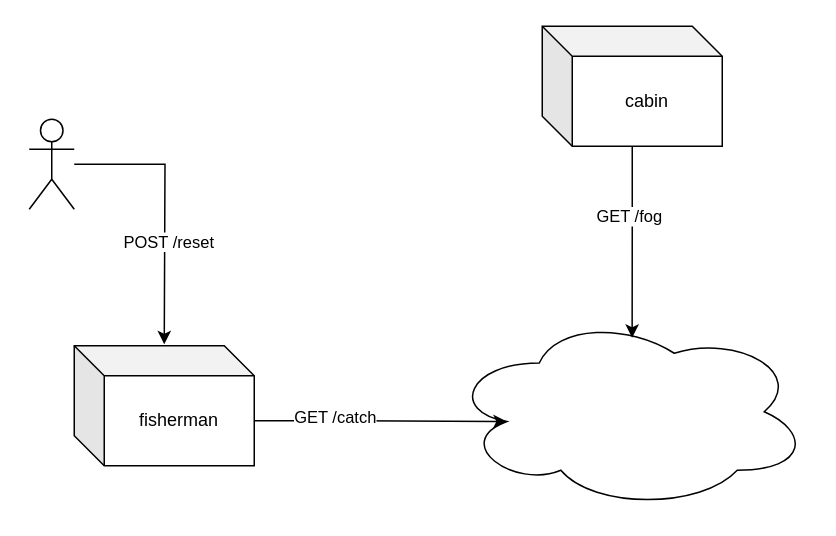
This 836x536 diagram has some shape labels left out. The shapes that lost their labels are listed below. From the top down, each one's box as (x1, y1, x2, y2) in pixels, then its label:
(28, 118, 74, 209): Admin
(448, 313, 809, 509): lake
